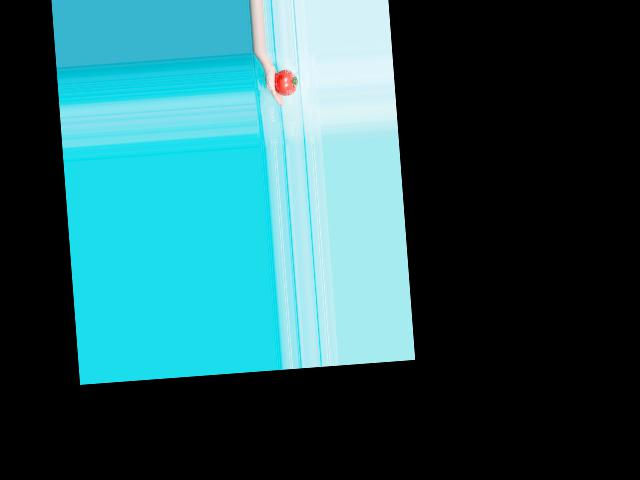tomato: (273, 69, 298, 97)
